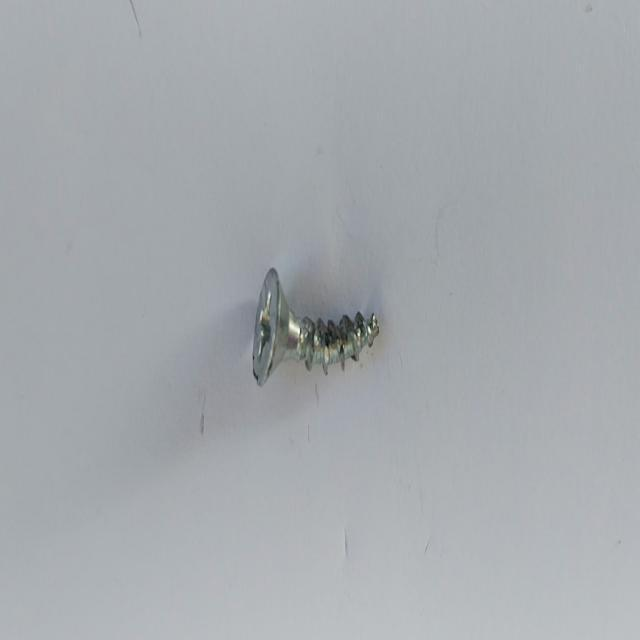Screw: (253, 267, 379, 385)
